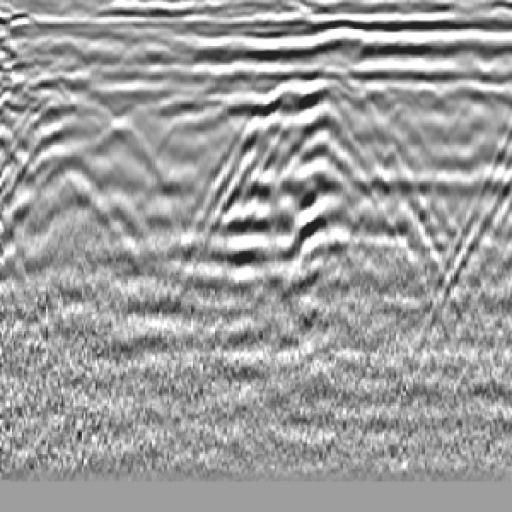metalic: (243, 50, 362, 142)
